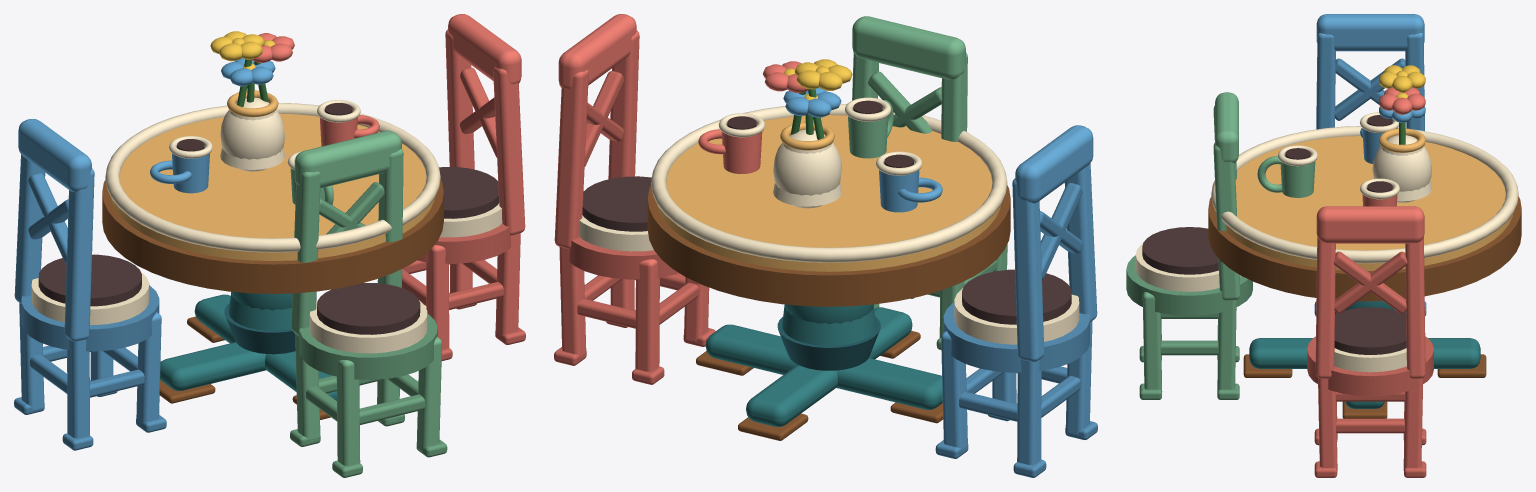
Rendered from cafe-seating.glb.
3 renders of one model, left to right at view 1: azimuth 30°, elevation 25°; view 2: azimuth 150°, elevation 25°; view 3: azimuth 270°, elevation 25°, orthographic. The views are drawn at different scales.
Visible parts, largest first — view 1: round-tabletop-surface-2, round-tabletop-surface-0, seat-and-cushion-surface-4 (×3), complete-x-backrest-surface-4 (×3), complete-x-backrest-surface-2 (×3), seat-and-cushion-surface-0 (×3), complete-x-backrest-surface-0 (×3), round-tabletop-surface-4, seat-and-cushion-surface-2 (×3), pedestal-foot-surface-0 (×3), four-legs-and-cross-braces-surface-0 (×3), four-legs-and-cross-braces-surface-12 (×3) (+18 smaller); view 2: round-tabletop-surface-2, round-tabletop-surface-0, complete-x-backrest-surface-4 (×3), pedestal-foot-surface-0 (×4), complete-x-backrest-surface-2 (×3), round-tabletop-surface-4, complete-x-backrest-surface-0 (×3), seat-and-cushion-surface-4 (×2), seat-and-cushion-surface-0 (×2), ceramic-mug-surface-0 (×3), four-legs-and-cross-braces-surface-12 (×2), seat-and-cushion-surface-2 (×2) (+18 smaller); view 3: round-tabletop-surface-2, complete-x-backrest-surface-4 (×3), round-tabletop-surface-0, round-tabletop-surface-4, seat-and-cushion-surface-4 (×2), complete-x-backrest-surface-0 (×3), seat-and-cushion-surface-0 (×2), complete-x-backrest-surface-2 (×2), pedestal-foot-surface-0 (×2), four-legs-and-cross-braces-surface-8 (×2), seat-and-cushion-surface-2 (×2), cream-flower-vase-surface-2 (+13 smaller).
Part boxes in pixels (left/top/right/bottom): round-tabletop-surface-2: left=111, top=113, right=434, bottom=260; round-tabletop-surface-0: left=102, top=179, right=443, bottom=293; seat-and-cushion-surface-4 (×3): left=38, top=167, right=498, bottom=334; complete-x-backrest-surface-4 (×3): left=18, top=14, right=521, bottom=192; complete-x-backrest-surface-2 (×3): left=64, top=29, right=474, bottom=341; seat-and-cushion-surface-0 (×3): left=21, top=223, right=511, bottom=379; complete-x-backrest-surface-0 (×3): left=14, top=66, right=525, bottom=303; round-tabletop-surface-4: left=105, top=102, right=440, bottom=252; seat-and-cushion-surface-2 (×3): left=31, top=203, right=502, bottom=353; pedestal-foot-surface-0 (×3): left=160, top=294, right=336, bottom=400; four-legs-and-cross-braces-surface-0 (×3): left=90, top=245, right=449, bottom=451; four-legs-and-cross-braces-surface-12 (×3): left=67, top=263, right=472, bottom=441; round-tabletop-surface-2: left=657, top=115, right=1000, bottom=271; round-tabletop-surface-0: left=647, top=185, right=1010, bottom=306; complete-x-backrest-surface-4 (×3): left=558, top=14, right=1093, bottom=203; pedestal-foot-surface-0 (×4): left=705, top=307, right=942, bottom=426; complete-x-backrest-surface-2 (×3): left=554, top=52, right=1097, bottom=322; round-tabletop-surface-4: left=651, top=103, right=1007, bottom=262; complete-x-backrest-surface-0 (×3): left=608, top=30, right=1044, bottom=362; seat-and-cushion-surface-4 (×2): left=582, top=176, right=1071, bottom=324; seat-and-cushion-surface-0 (×2): left=569, top=237, right=1089, bottom=372; ceramic-mug-surface-0 (×3): left=721, top=109, right=919, bottom=212; four-legs-and-cross-braces-surface-12 (×2): left=559, top=247, right=1092, bottom=435; seat-and-cushion-surface-2 (×2): left=579, top=215, right=1079, bottom=344; round-tabletop-surface-2: left=1226, top=136, right=1513, bottom=270; complete-x-backrest-surface-4 (×3): left=1215, top=14, right=1424, bottom=243; round-tabletop-surface-0: left=1208, top=196, right=1521, bottom=301; round-tabletop-surface-4: left=1211, top=126, right=1518, bottom=263; seat-and-cushion-surface-4 (×2): left=1142, top=227, right=1406, bottom=354; complete-x-backrest-surface-0 (×3): left=1213, top=33, right=1424, bottom=378; seat-and-cushion-surface-0 (×2): left=1126, top=255, right=1433, bottom=396; complete-x-backrest-surface-2 (×2): left=1316, top=33, right=1425, bottom=378; pedestal-foot-surface-0 (×2): left=1249, top=338, right=1480, bottom=368; four-legs-and-cross-braces-surface-8 (×2): left=1217, top=300, right=1337, bottom=470; seat-and-cushion-surface-2 (×2): left=1135, top=243, right=1406, bottom=372; cream-flower-vase-surface-2: left=1372, top=135, right=1431, bottom=202.
Size of the model in its own units: 1.75 by 1.14 by 1.36.
